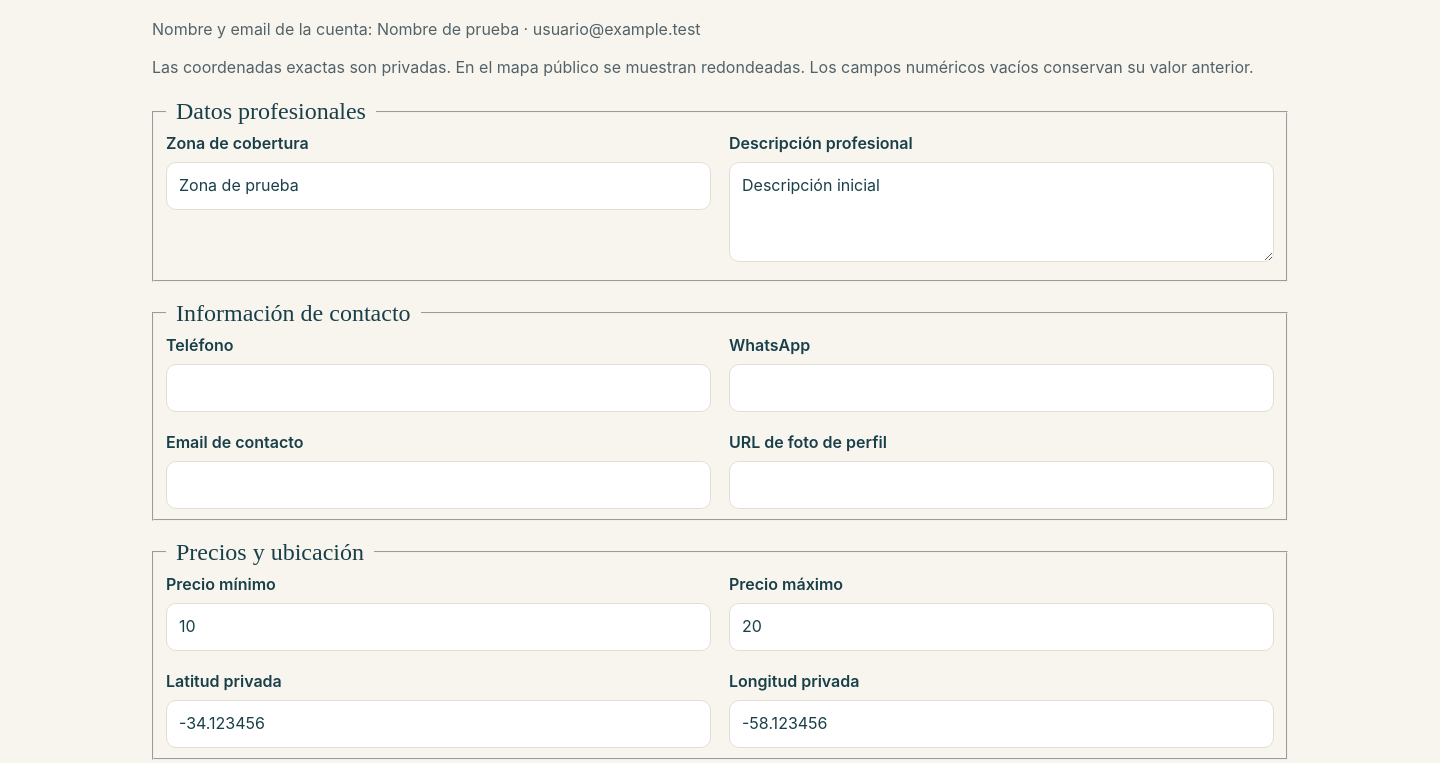
Test: Regresión: PUT de perfil compatible con validarContacto/validarTextos › valida el formato telefónico admitido por el controlador
Type "no-es-un-numero" into the field labelled "WhatsApp".
click(1002, 388); type("no-es-un-numero")  # box [729, 364, 1274, 412]
(page scrolled)
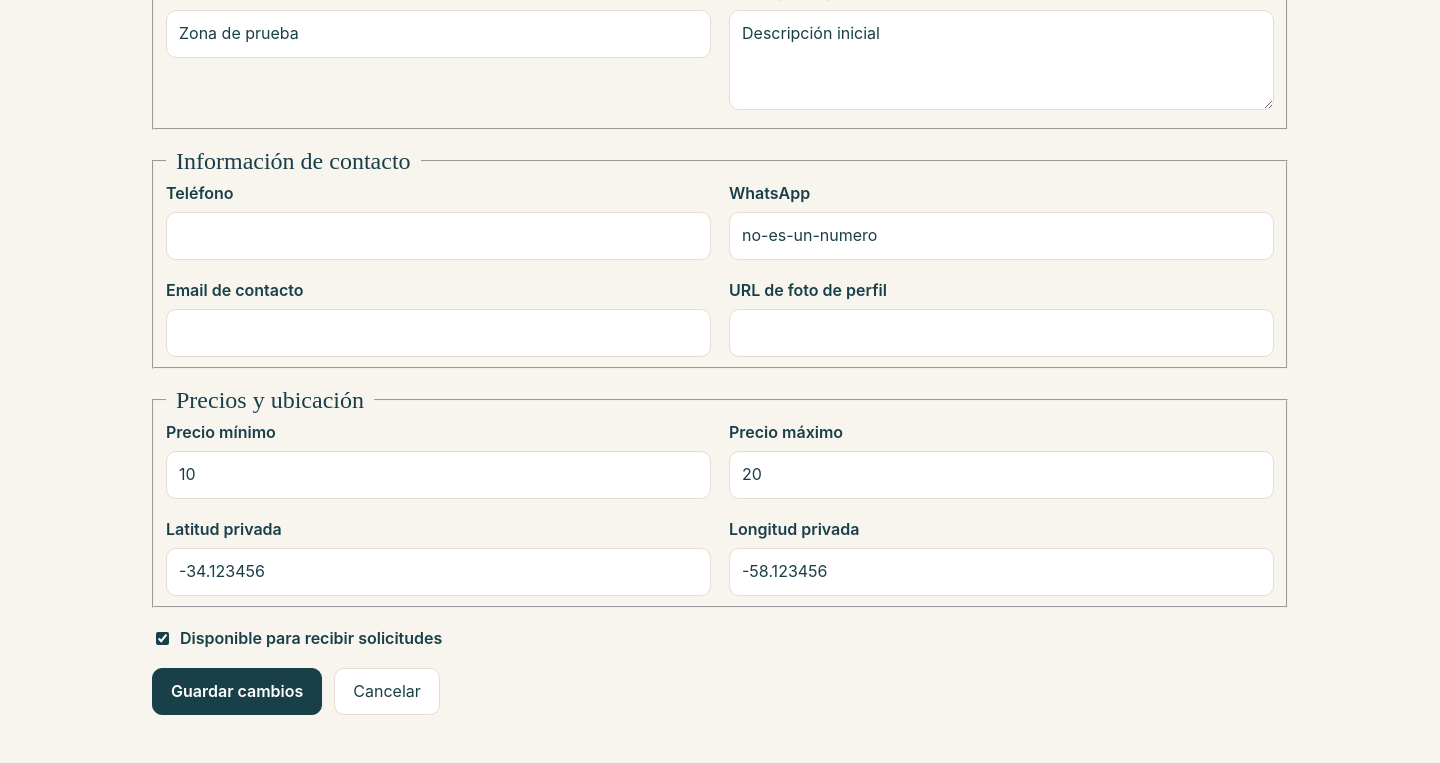
Click the button "Guardar cambios".
click(237, 691)  # box [152, 668, 322, 715]
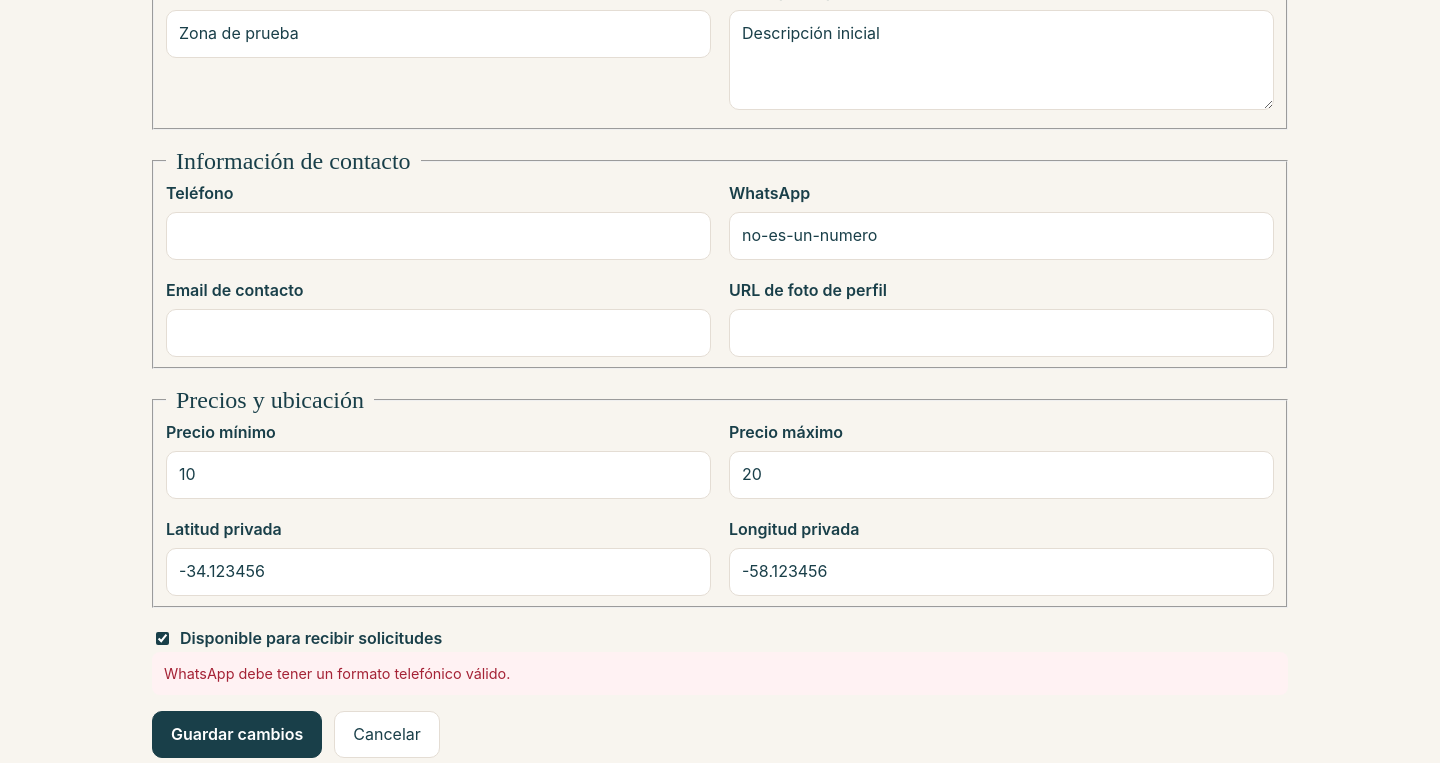
expect the message shows "WhatsApp": met, box [164, 664, 510, 682]
